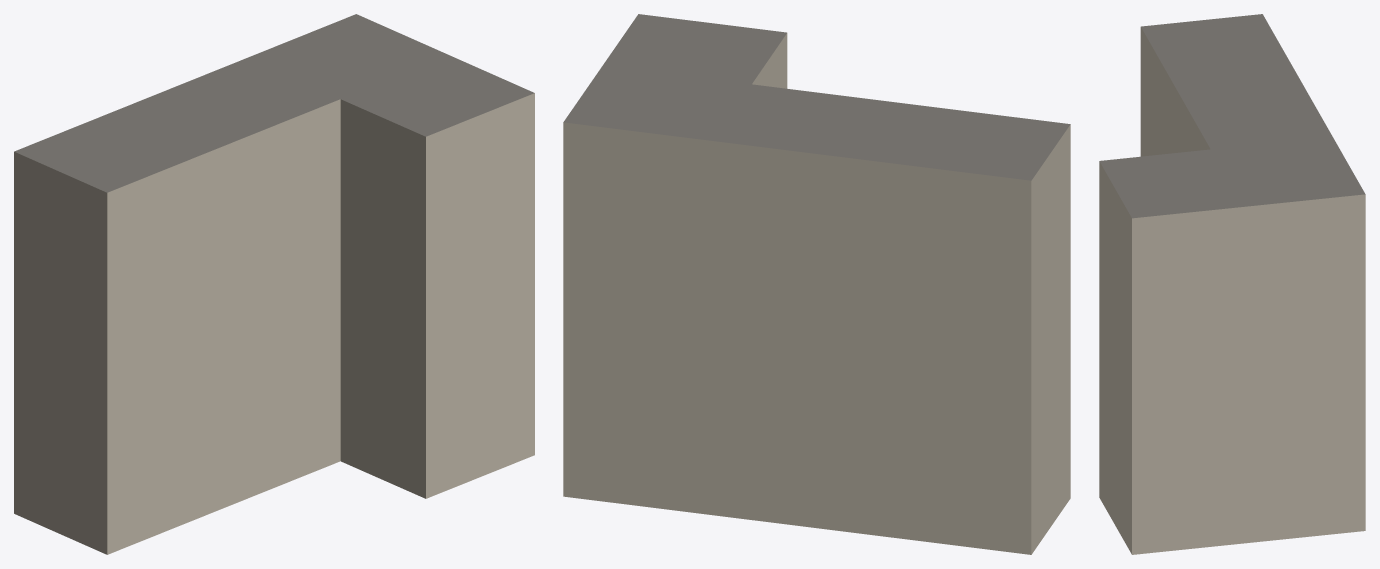
3 renders of one model, left to right at view 1: azimuth 30°, elevation 25°; view 2: azimuth 150°, elevation 25°; view 3: azimuth 270°, elevation 25°, orthographic. The views are drawn at different scales.
Visible parts, largest first — view 1: HP-w1197725300; view 2: HP-w1197725300; view 3: HP-w1197725300.
Boxes of the visible parts, x1,y1,x2,y2 form: HP-w1197725300: (14,14,534,554); HP-w1197725300: (563,14,1070,554); HP-w1197725300: (1099,14,1365,554).
Bounding box in the file's own units: 23.44 × 18 × 12.91.
